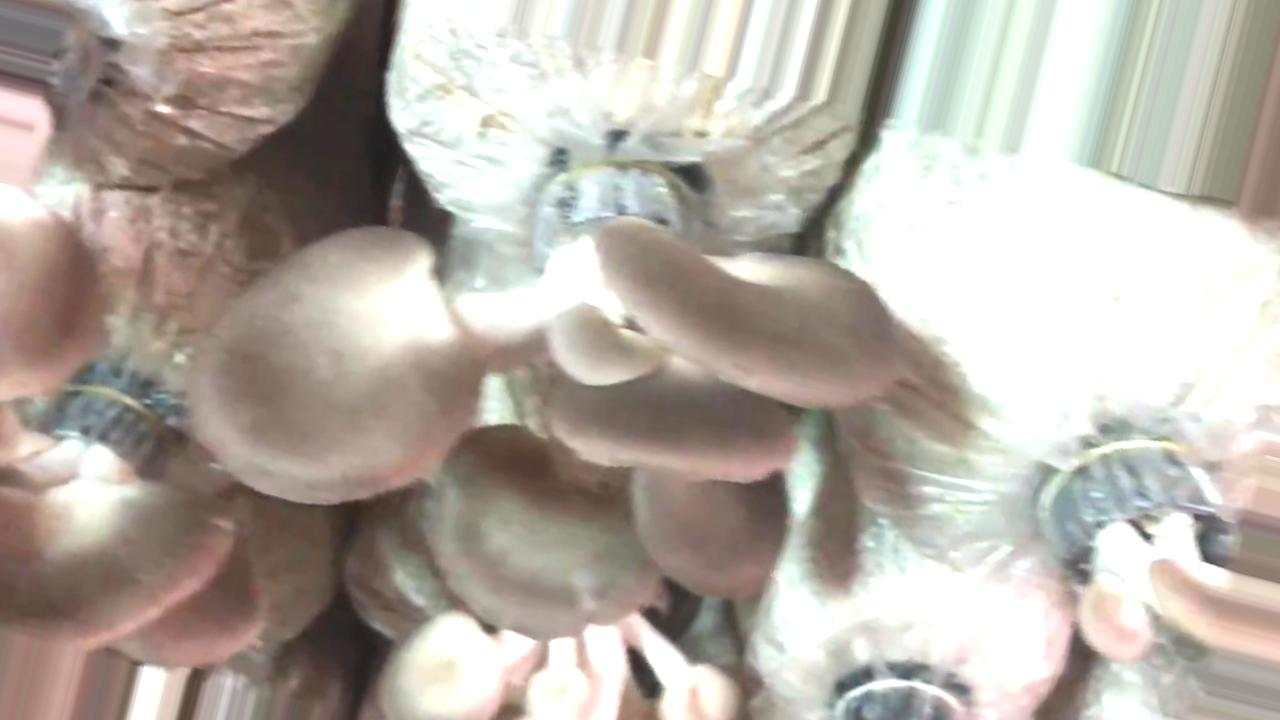nam: (196, 170, 909, 639), (7, 384, 239, 666), (1063, 445, 1280, 657), (1, 1, 103, 399), (384, 612, 736, 720)
